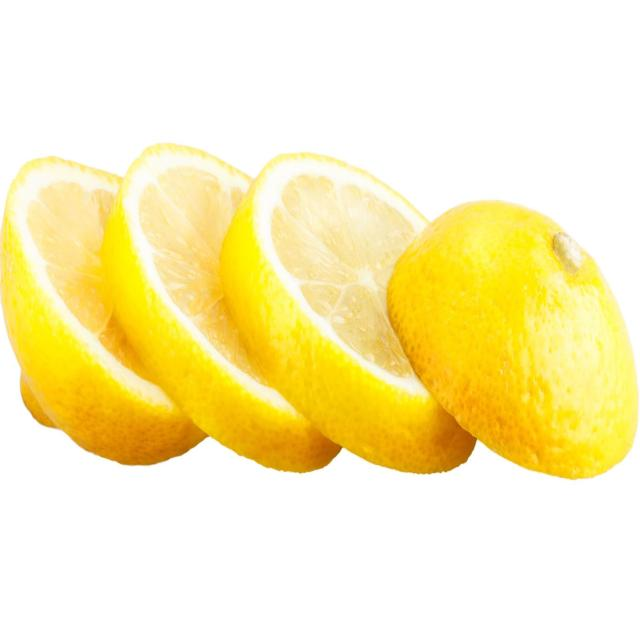lemon: (0, 133, 640, 489)
